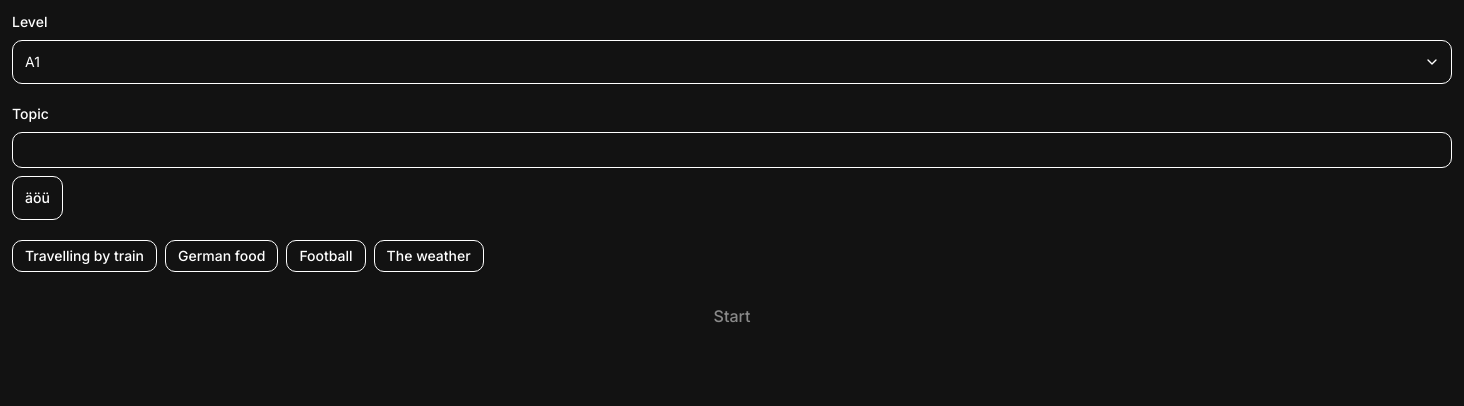
SessionSetup › fills a reading topic from a suggestion chip and shows start errors
The width and height of the screenshot is (1464, 406).
Expected: the button "Start" is disabled, left=12, top=292, right=1452, bottom=340
Click the button "Football" at (326, 256), box left=286, top=240, right=366, bottom=272
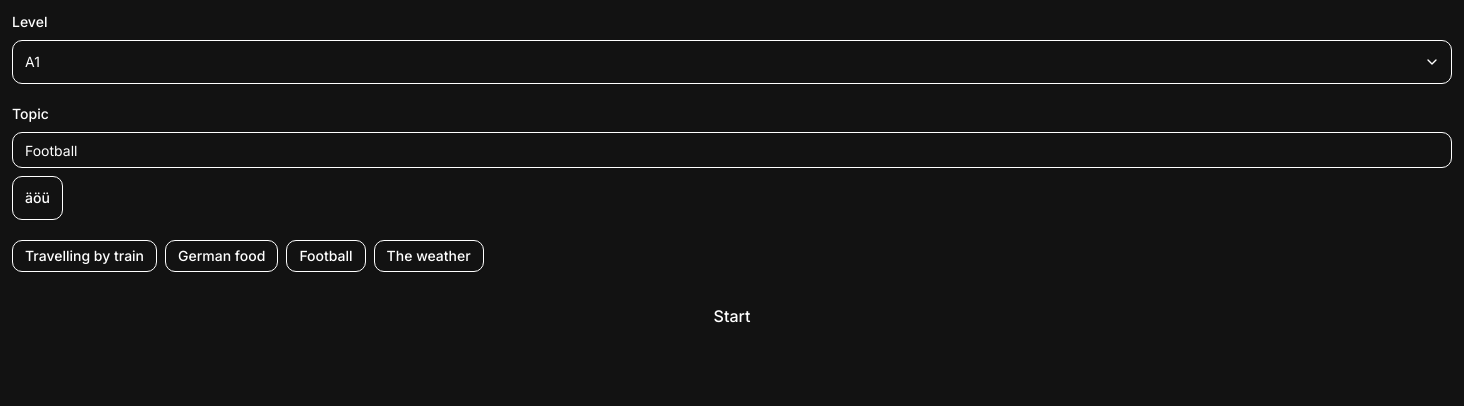
Result: the field labelled "Topic" holds "Football" at left=12, top=132, right=1452, bottom=168
Click the button "Start" at (732, 316), box left=12, top=292, right=1452, bottom=340
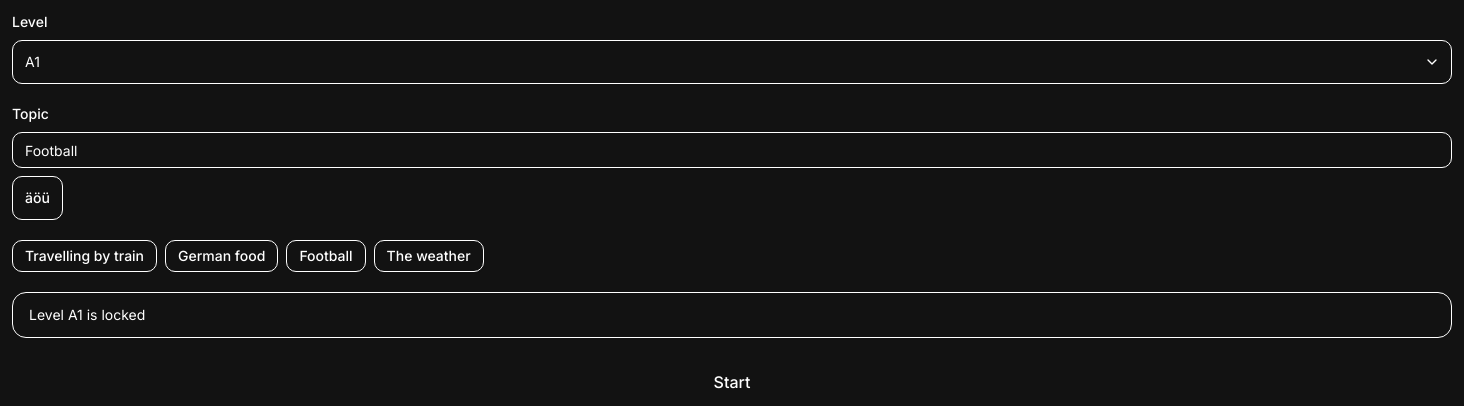
Result: the message reads "Level A1 is locked" at left=29, top=306, right=145, bottom=323
